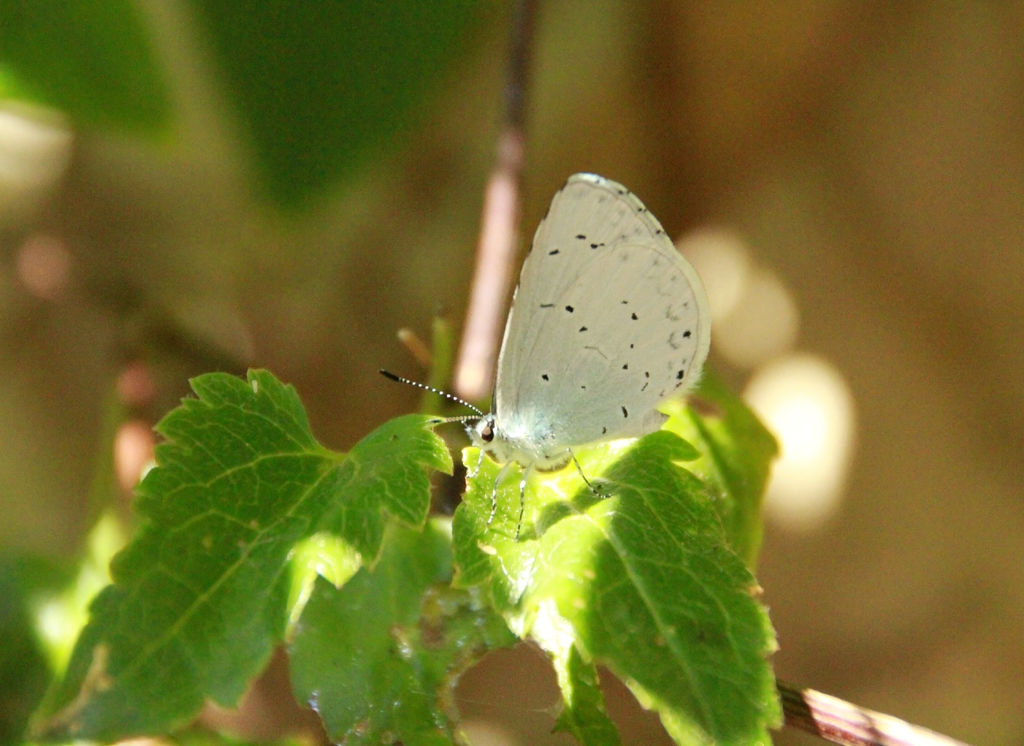Butterfly: (409, 163, 711, 515)
